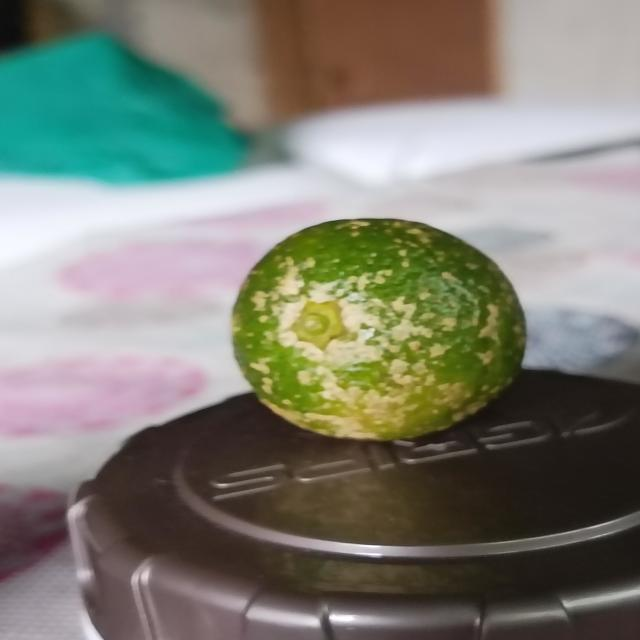scab: (209, 215, 538, 450)
